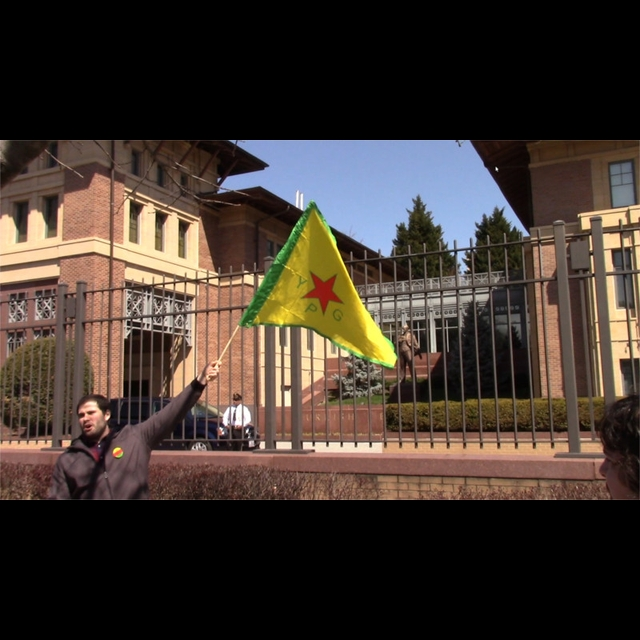YPG: (294, 265, 349, 331)
